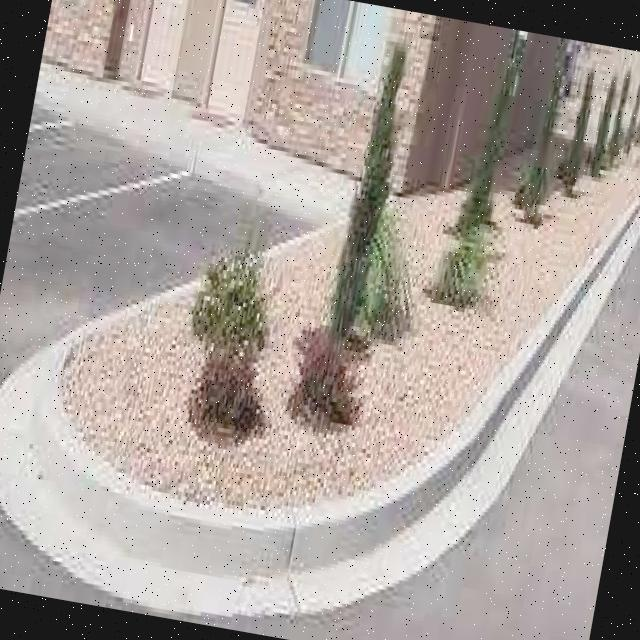curb: (1, 431, 394, 639), (378, 358, 545, 568), (98, 132, 339, 236), (6, 336, 98, 445), (526, 263, 614, 371), (611, 156, 640, 265)
